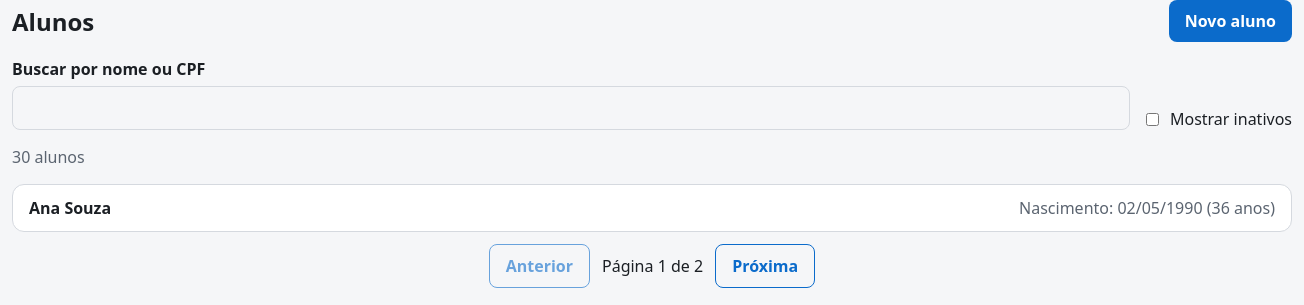
Test: lista de alunos › paginação pede a página seguinte
Step 1. Click the button "Próxima" → (765, 266), box [715,244,815,288]
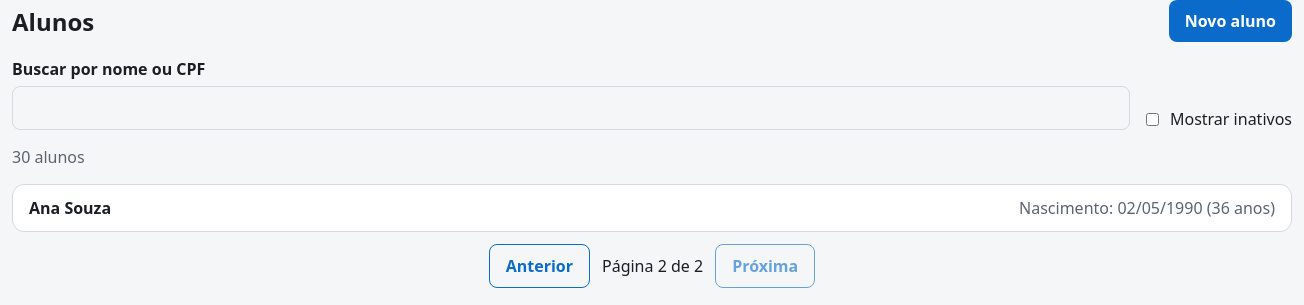
Expected: the text "Página 2 de 2" is shown, [602,255,703,277]
